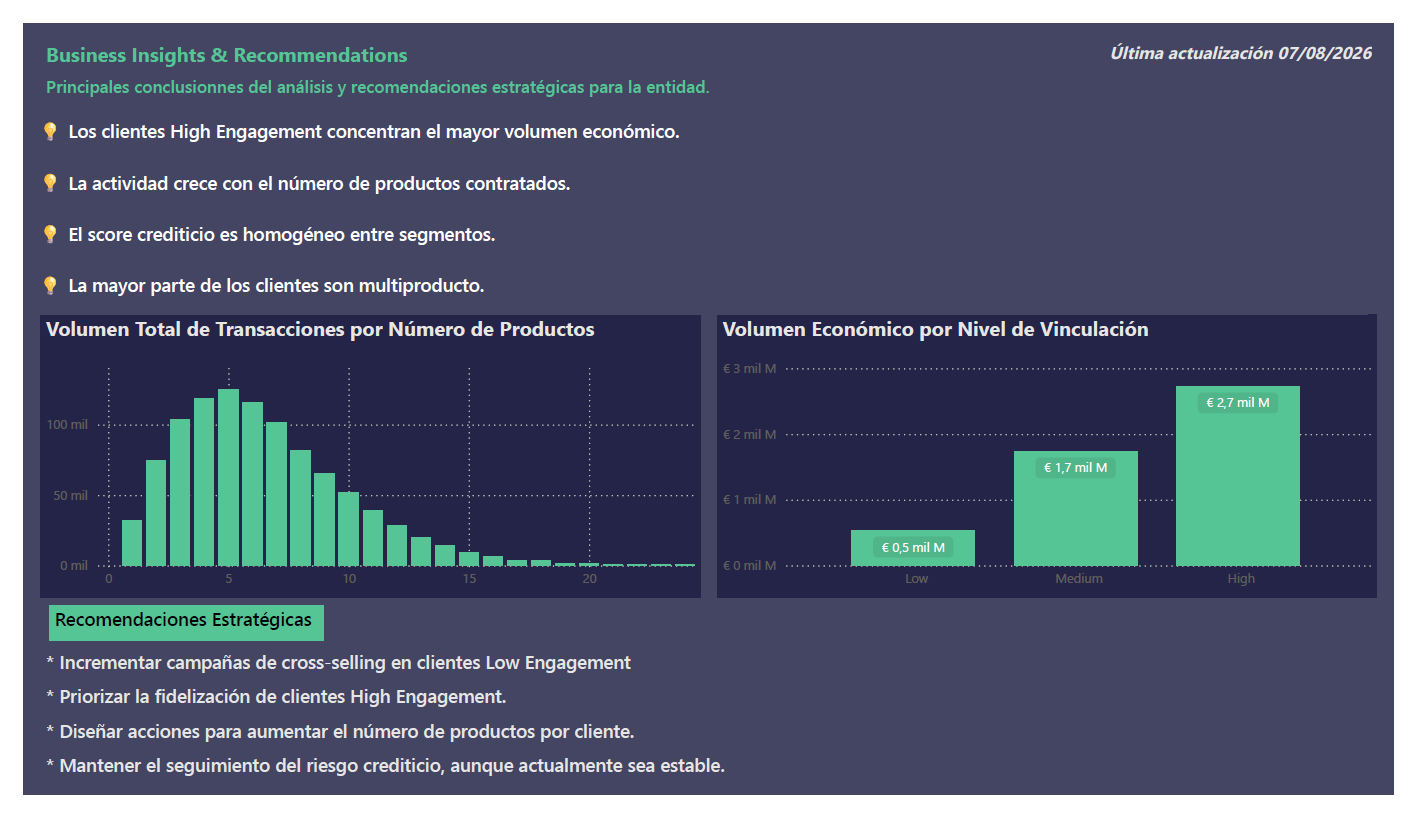

The dashboard page shown, as its layout file describes it:
{"tool":"powerbi","page":{"name":"Bussines Insights & Recommendations","canvas":[1280,720],"ordinal":3},"visuals":[{"type":"textbox","title":"Business Insights & Recommendations","box":[16,16,728,24],"z":0},{"type":"clusteredColumnChart","title":"Volumen Total de Transacciones por Número de Productos","fields":{"Category":["Customers.total_products"],"Y":["Sum(Customers.total_transactions)"]},"box":[16,272,616,264],"z":0,"group":"g1"},{"type":"clusteredColumnChart","title":"Volumen Económico por Nivel de Vinculación","fields":{"Category":["Customers.engagement_level"],"Y":["Sum(Customers.total_transaction_amount)"]},"box":[648,272,616,264],"z":1000},{"type":"group","id":"g1","title":"Grupo 4","box":[16,272,616,264],"z":2000},{"type":"textbox","title":"💡 Los clientes High Engagement concentran el mayor volumen económico.","box":[8,88,1248,40],"z":3000},{"type":"textbox","title":"Fecha de análisis 07/08/2026","box":[872,16,392,24],"z":4000},{"type":"textbox","title":"💡 La actividad crece con el número de productos contratados.","box":[8,136,1248,40],"z":5000},{"type":"textbox","title":"💡 El score crediticio es homogéneo entre segmentos.","box":[8,184,1248,40],"z":6000},{"type":"textbox","title":"💡 La mayor parte de los clientes son multiproducto.","box":[8,232,1248,40],"z":7000},{"type":"group","id":"g2","title":"Grupo 1","box":[16,584,1248,136],"z":9000},{"type":"textbox","title":"* Incrementar campañas de cross-selling en clientes Low Engagement","box":[16,584,1248,40],"z":9000,"group":"g2"},{"type":"textbox","title":"Recomendaciones Estratégicas","box":[24,544,256,32],"z":10000},{"type":"textbox","title":"* Priorizar la fidelización de clientes High Engagement.","box":[16,616,1248,40],"z":10000,"group":"g2"},{"type":"textbox","title":"Principales conclusionnes del análisis y recomendaciones estratégicas para la entidad.","box":[16,48,688,32],"z":11000},{"type":"textbox","title":"* Diseñar acciones para aumentar el número de productos por cliente.","box":[16,648,1248,40],"z":11000,"group":"g2"},{"type":"textbox","title":"* Mantener el seguimiento del riesgo crediticio, aunque actualmente sea estable.","box":[16,680,1248,40],"z":12000,"group":"g2"}]}

Visuals, with their boxes in screenshot pixels (x1, y1, x2, y2), scaled from the page's 1280x720 canvas onto the 1417x817 screenshot:
"Business Insights & Recommendations" textbox: select_region(18, 18, 824, 45)
"Volumen Total de Transacciones por Número de Productos" clusteredColumnChart: select_region(18, 309, 700, 608)
"Volumen Económico por Nivel de Vinculación" clusteredColumnChart: select_region(717, 309, 1399, 608)
"Grupo 4" group: select_region(18, 309, 700, 608)
"💡 Los clientes High Engagement concentran el mayor volumen económico." textbox: select_region(9, 100, 1390, 145)
"Fecha de análisis 07/08/2026" textbox: select_region(965, 18, 1399, 45)
"💡 La actividad crece con el número de productos contratados." textbox: select_region(9, 154, 1390, 200)
"💡 El score crediticio es homogéneo entre segmentos." textbox: select_region(9, 209, 1390, 254)
"💡 La mayor parte de los clientes son multiproducto." textbox: select_region(9, 263, 1390, 309)
"Grupo 1" group: select_region(18, 663, 1399, 816)
"* Incrementar campañas de cross-selling en clientes Low Engagement" textbox: select_region(18, 663, 1399, 708)
"Recomendaciones Estratégicas" textbox: select_region(27, 617, 310, 654)
"* Priorizar la fidelización de clientes High Engagement." textbox: select_region(18, 699, 1399, 744)
"Principales conclusionnes del análisis y recomendaciones estratégicas para la entidad." textbox: select_region(18, 54, 779, 91)
"* Diseñar acciones para aumentar el número de productos por cliente." textbox: select_region(18, 735, 1399, 781)
"* Mantener el seguimiento del riesgo crediticio, aunque actualmente sea estable." textbox: select_region(18, 772, 1399, 816)
